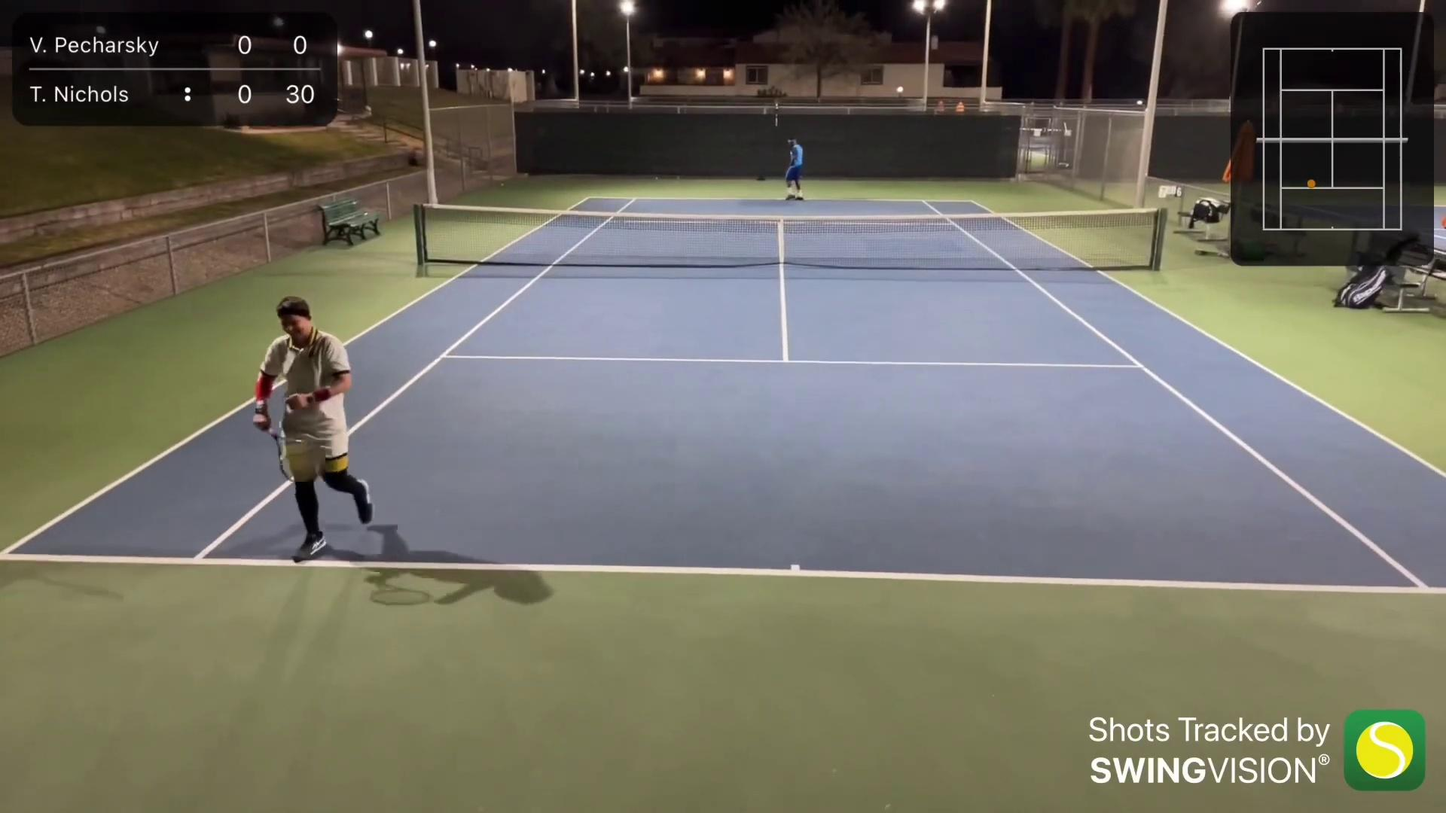ball: (397, 48, 404, 55)
